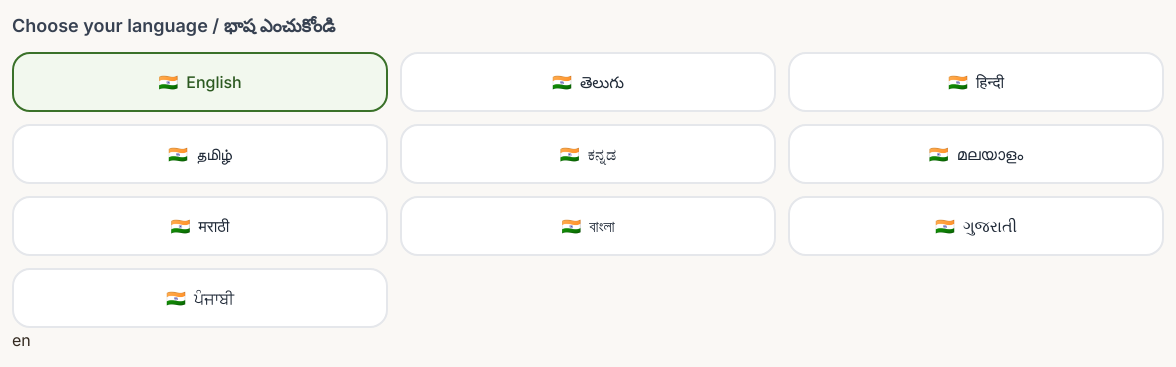
Test: LanguageSelector › updates the shared locale (and persists it) when a language is picked
Click the text "বাংলা" at (602, 226), box [589, 214, 615, 238]
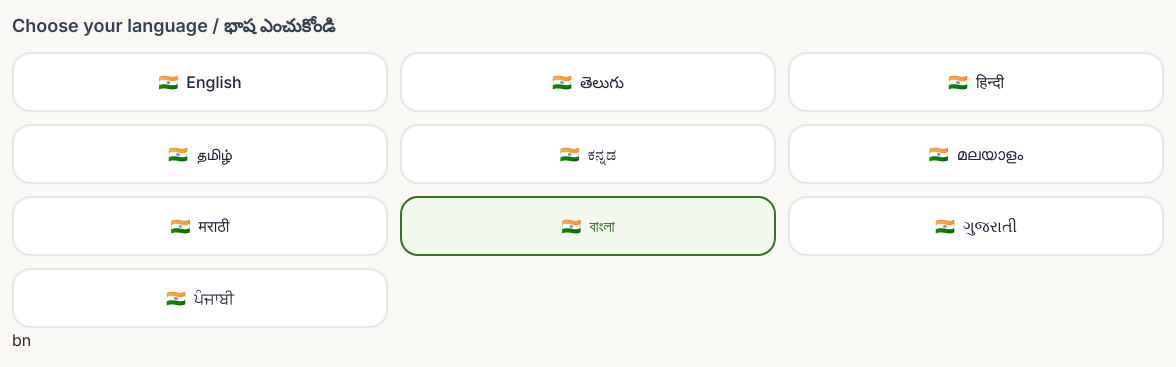
Check: the text with test id "current-locale" reads "bn", box [12, 330, 31, 350]
